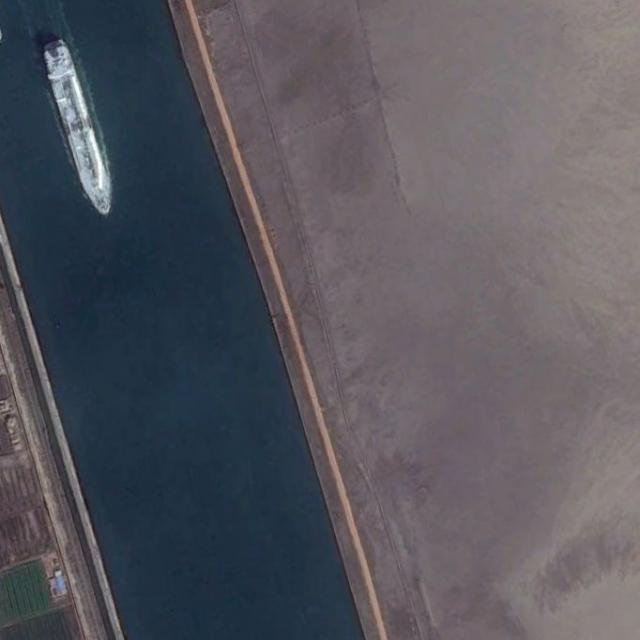ship: (40, 34, 114, 216)
